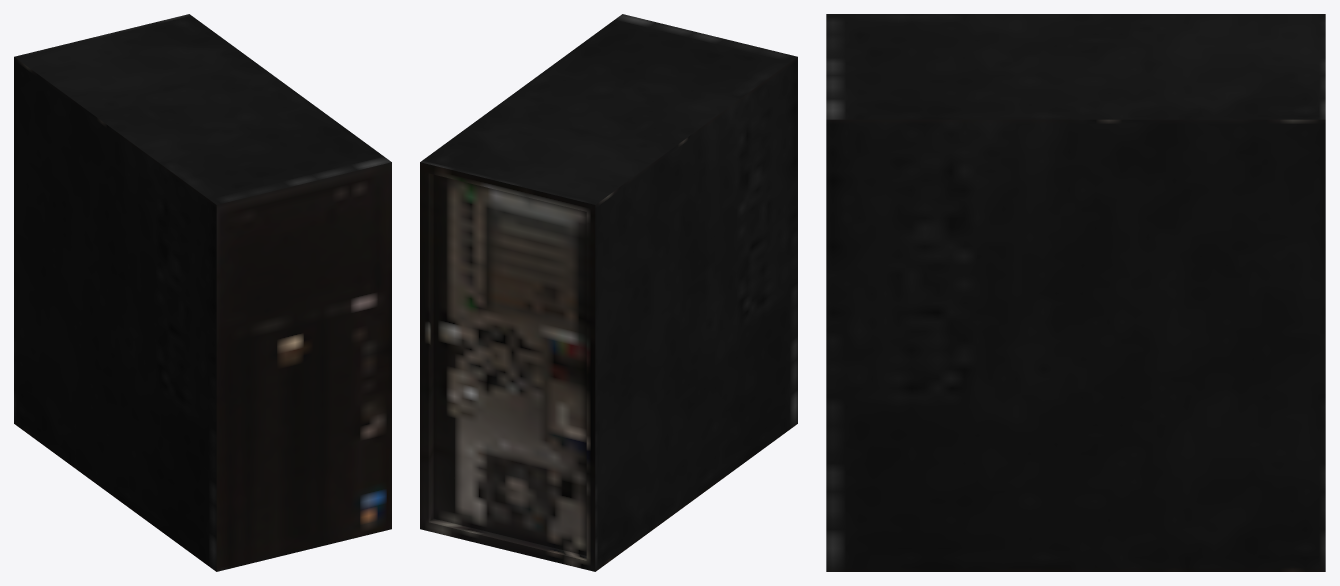
The model's file is Computer01.obj.
3 views of the same model, side by side, from view 1: azimuth 30°, elevation 25°; view 2: azimuth 150°, elevation 25°; view 3: azimuth 270°, elevation 25° (orthographic). The views are drawn at different scales.
Parts seen in each view (by area): view 1: Computer01; view 2: Computer01; view 3: Computer01.
Part boxes in pixels (x1,y1,x2,y2): Computer01: (14,14,391,571); Computer01: (420,14,797,571); Computer01: (826,14,1325,571).
Size of the model in its own units: 0.405 by 0.81 by 0.81.
